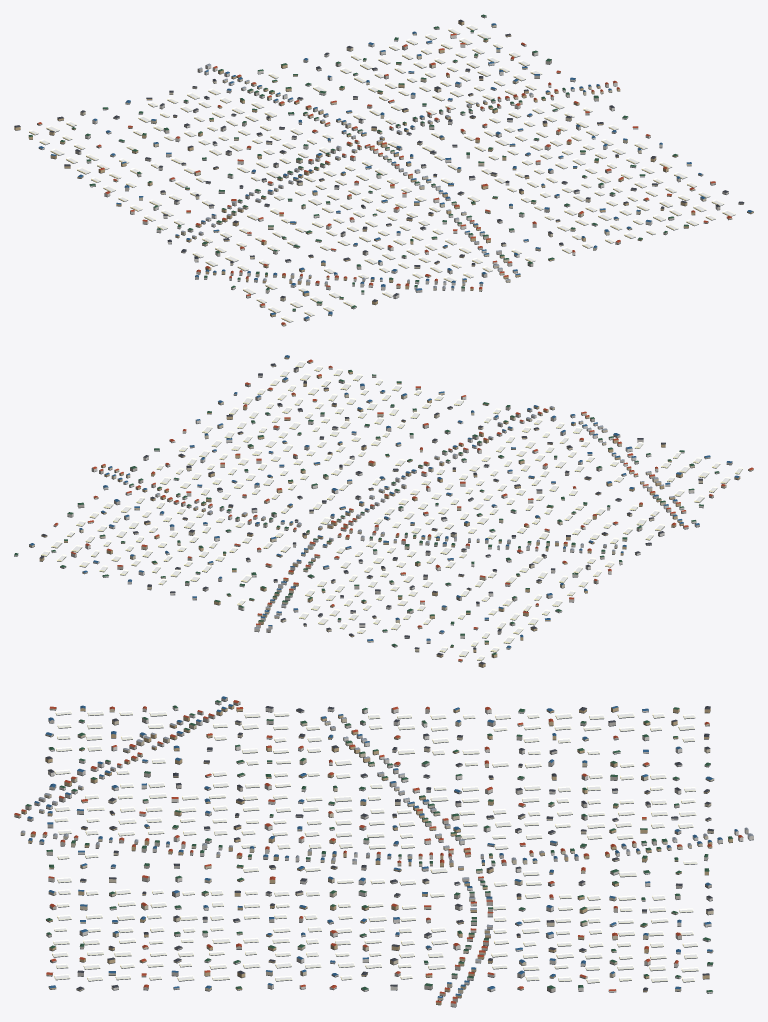
Rendered from buildings_T_W06_N01.glb.
The picture shows the model from 3 angles, top to bottom: view 1: azimuth 30°, elevation 25°; view 2: azimuth 150°, elevation 25°; view 3: azimuth 270°, elevation 25°; orthographic projection. The views are drawn at different scales.
Visible parts, largest first — view 1: T_W06_N01_roofs_agri_greenhouse_arch, T_W06_N01_slope_seating_foundations, T_W06_N01_walls_wall_french_ochre_villa, T_W06_N01_walls_wall_modern_warm_white, T_W06_N01_walls_wall_pastel_sand_gray, T_W06_N01_walls_wall_dalat_cream_stucco, T_W06_N01_roofs_roof_pine_green_hip, T_W06_N01_roofs_roof_highland_blue_gable, T_W06_N01_roofs_roof_terracotta_gable, T_W06_N01_roofs_roof_slate_French_villa_hip, T_W06_N01_roofs_roof_zinc_silver_gable; view 2: T_W06_N01_roofs_agri_greenhouse_arch, T_W06_N01_slope_seating_foundations, T_W06_N01_walls_wall_french_ochre_villa, T_W06_N01_walls_wall_modern_warm_white, T_W06_N01_walls_wall_pastel_sand_gray, T_W06_N01_walls_wall_dalat_cream_stucco, T_W06_N01_roofs_roof_pine_green_hip, T_W06_N01_roofs_roof_highland_blue_gable, T_W06_N01_roofs_roof_terracotta_gable, T_W06_N01_roofs_roof_slate_French_villa_hip, T_W06_N01_roofs_roof_zinc_silver_gable; view 3: T_W06_N01_roofs_agri_greenhouse_arch, T_W06_N01_slope_seating_foundations, T_W06_N01_walls_wall_french_ochre_villa, T_W06_N01_walls_wall_modern_warm_white, T_W06_N01_walls_wall_pastel_sand_gray, T_W06_N01_walls_wall_dalat_cream_stucco, T_W06_N01_roofs_roof_highland_blue_gable, T_W06_N01_roofs_roof_pine_green_hip, T_W06_N01_roofs_roof_terracotta_gable, T_W06_N01_roofs_roof_slate_French_villa_hip, T_W06_N01_roofs_roof_zinc_silver_gable.
Part boxes in pixels (x1=…): T_W06_N01_roofs_agri_greenhouse_arch: x1=29, y1=24, x2=735, y2=321; T_W06_N01_slope_seating_foundations: x1=14, y1=16, x2=753, y2=326; T_W06_N01_walls_wall_french_ochre_villa: x1=14, y1=21, x2=753, y2=316; T_W06_N01_walls_wall_modern_warm_white: x1=38, y1=15, x2=728, y2=308; T_W06_N01_walls_wall_pastel_sand_gray: x1=75, y1=27, x2=720, y2=320; T_W06_N01_walls_wall_dalat_cream_stucco: x1=37, y1=24, x2=744, y2=325; T_W06_N01_roofs_roof_pine_green_hip: x1=29, y1=14, x2=688, y2=310; T_W06_N01_roofs_roof_highland_blue_gable: x1=39, y1=23, x2=753, y2=318; T_W06_N01_roofs_roof_terracotta_gable: x1=37, y1=33, x2=731, y2=324; T_W06_N01_roofs_roof_slate_French_villa_hip: x1=14, y1=19, x2=743, y2=301; T_W06_N01_roofs_roof_zinc_silver_gable: x1=181, y1=63, x2=533, y2=288; T_W06_N01_roofs_agri_greenhouse_arch: x1=41, y1=361, x2=742, y2=660; T_W06_N01_slope_seating_foundations: x1=14, y1=357, x2=753, y2=667; T_W06_N01_walls_wall_french_ochre_villa: x1=39, y1=356, x2=740, y2=667; T_W06_N01_walls_wall_modern_warm_white: x1=14, y1=375, x2=703, y2=649; T_W06_N01_walls_wall_pastel_sand_gray: x1=60, y1=367, x2=732, y2=646; T_W06_N01_walls_wall_dalat_cream_stucco: x1=29, y1=361, x2=753, y2=661; T_W06_N01_roofs_roof_pine_green_hip: x1=14, y1=370, x2=719, y2=654; T_W06_N01_roofs_roof_highland_blue_gable: x1=29, y1=355, x2=739, y2=648; T_W06_N01_roofs_roof_terracotta_gable: x1=53, y1=359, x2=753, y2=660; T_W06_N01_roofs_roof_slate_French_villa_hip: x1=39, y1=363, x2=702, y2=664; T_W06_N01_roofs_roof_zinc_silver_gable: x1=156, y1=406, x2=674, y2=629; T_W06_N01_roofs_agri_greenhouse_arch: x1=52, y1=710, x2=698, y2=982; T_W06_N01_slope_seating_foundations: x1=14, y1=700, x2=753, y2=1007; T_W06_N01_walls_wall_french_ochre_villa: x1=21, y1=705, x2=732, y2=1004; T_W06_N01_walls_wall_modern_warm_white: x1=46, y1=701, x2=753, y2=1006; T_W06_N01_walls_wall_pastel_sand_gray: x1=25, y1=697, x2=748, y2=1001; T_W06_N01_walls_wall_dalat_cream_stucco: x1=14, y1=707, x2=714, y2=1000; T_W06_N01_roofs_roof_highland_blue_gable: x1=27, y1=696, x2=738, y2=997; T_W06_N01_roofs_roof_pine_green_hip: x1=25, y1=700, x2=732, y2=992; T_W06_N01_roofs_roof_terracotta_gable: x1=14, y1=700, x2=743, y2=1003; T_W06_N01_roofs_roof_slate_French_villa_hip: x1=45, y1=706, x2=713, y2=990; T_W06_N01_roofs_roof_zinc_silver_gable: x1=20, y1=717, x2=753, y2=960.
Bounding box in the file's own units: 1908 × 31.35 × 1939.
